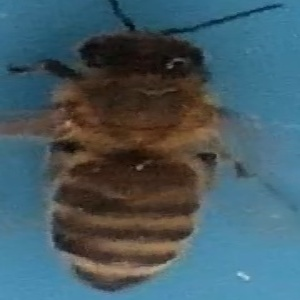bee: (7, 18, 257, 295)
